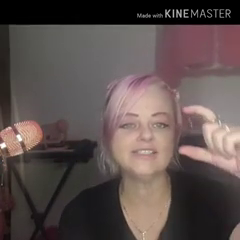C: (175, 104, 238, 178)
